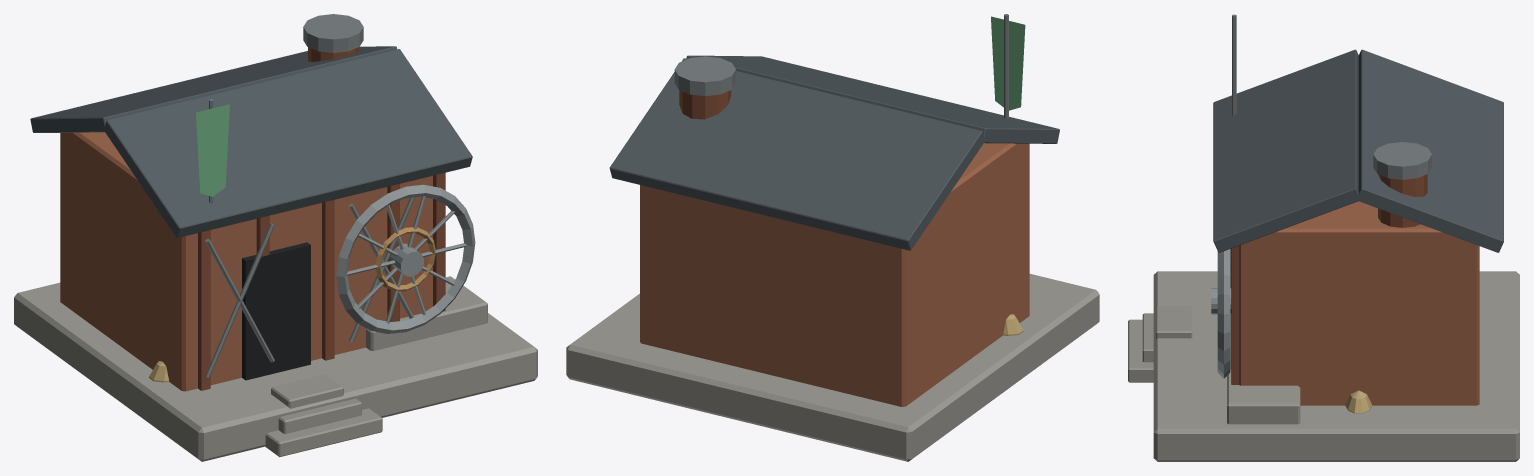
File: edificio-farm-e4-Cb7KYak0.glb
The picture shows the model from 3 angles, left to right: view 1: azimuth 30°, elevation 25°; view 2: azimuth 150°, elevation 25°; view 3: azimuth 270°, elevation 25°; orthographic projection. The views are drawn at different scales.
Visible parts, largest first — view 1: molino_e4_envolvente, rotor_molino, molino_e4_team_color; view 2: molino_e4_envolvente, molino_e4_team_color; view 3: molino_e4_envolvente, rotor_molino.
Boxes of the visible parts, x1,y1,x2,y2 form: molino_e4_envolvente: [14, 14, 537, 461]; rotor_molino: [336, 184, 475, 333]; molino_e4_team_color: [196, 104, 229, 196]; molino_e4_envolvente: [566, 14, 1099, 461]; molino_e4_team_color: [991, 16, 1025, 110]; molino_e4_envolvente: [1128, 14, 1519, 461]; rotor_molino: [1211, 249, 1231, 378].
Size of the model in its own units: 52 by 47 by 53.5.
